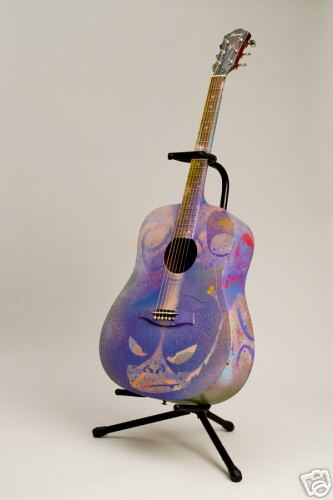guitar: (97, 26, 258, 404)
